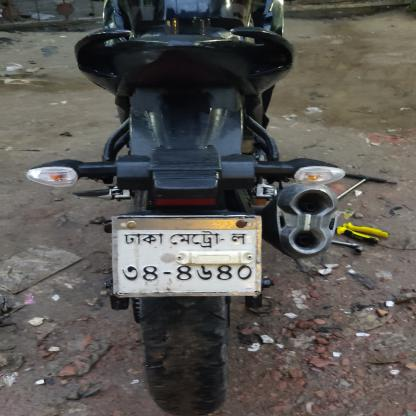license_plate: (92, 205, 272, 307)
